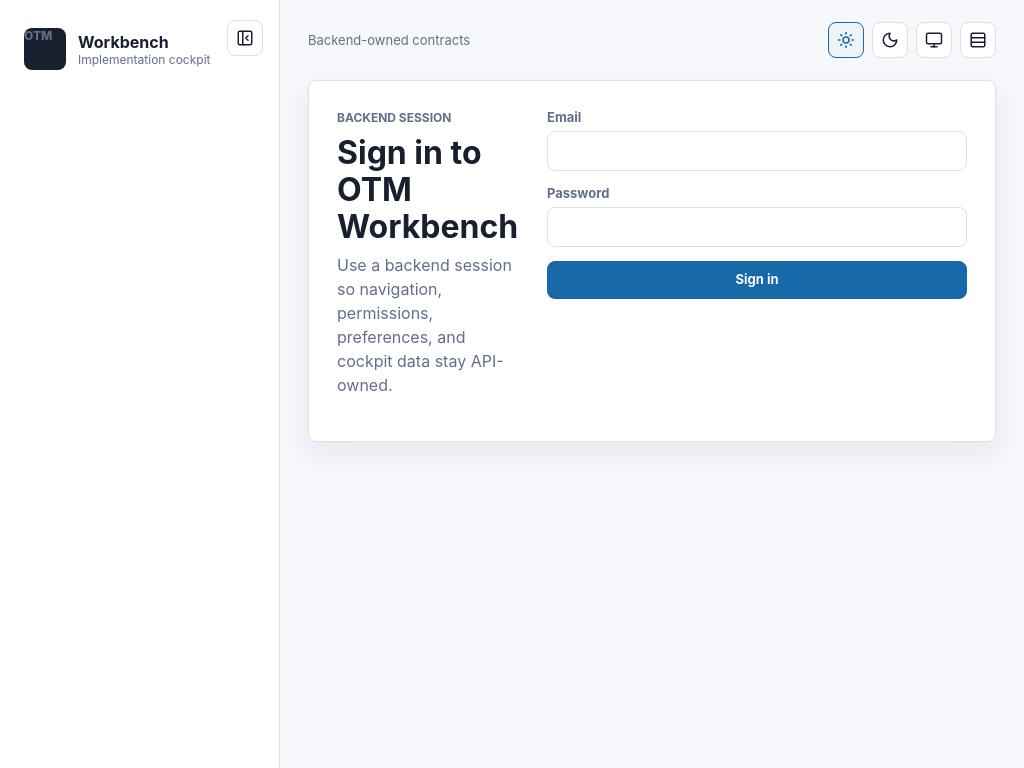
Test: App shell › keeps unknown backend routes behind the module unavailable state
Type "synthetic.user@example.test" into the field labelled "Email" at {"x": 757, "y": 151}, box [547,131,967,171]
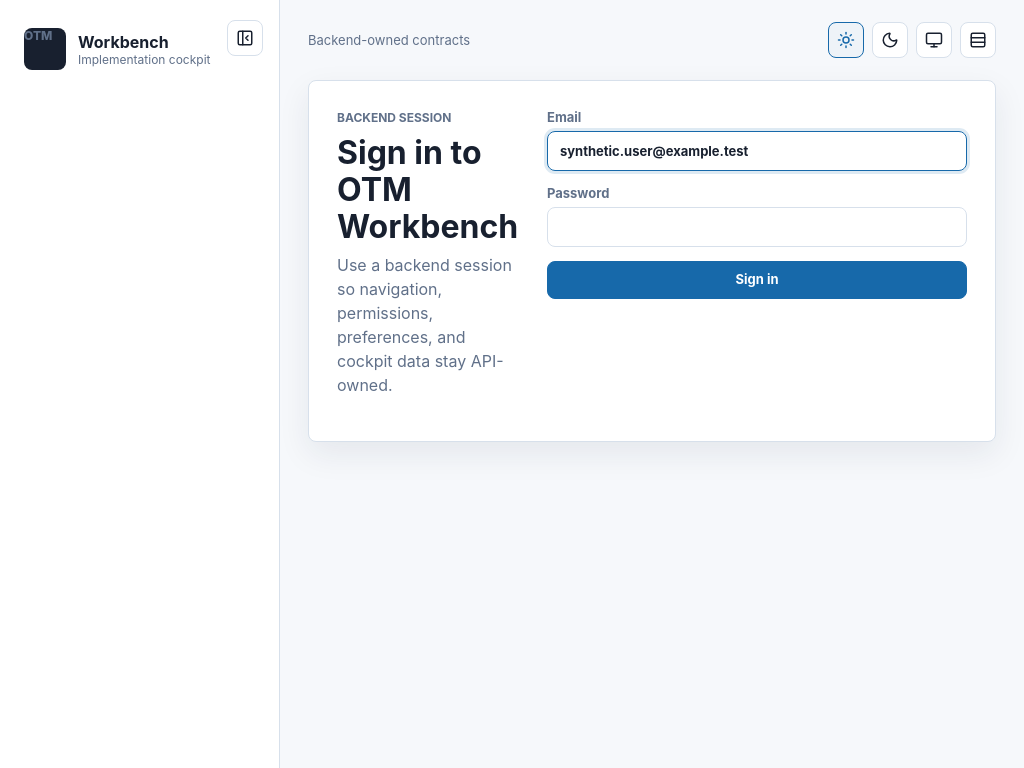
Type "synthetic-password" into the password field labelled "Password" at {"x": 757, "y": 227}, box [547,207,967,247]
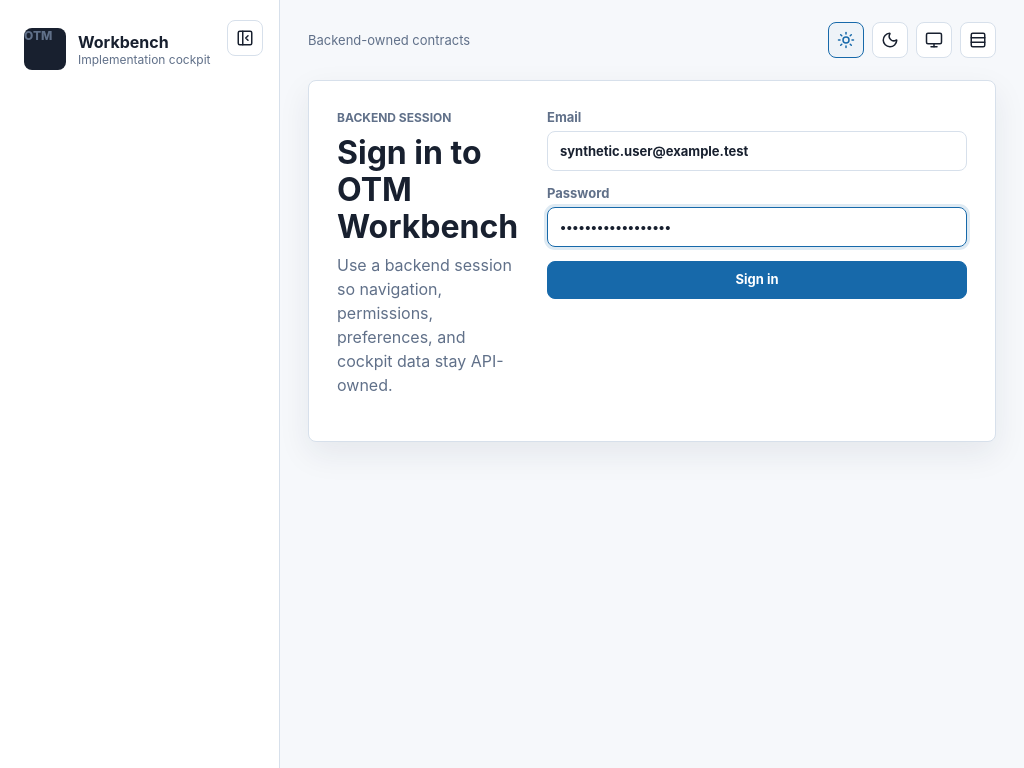
Click the button "Sign in" at {"x": 757, "y": 280}, box [547,261,967,299]
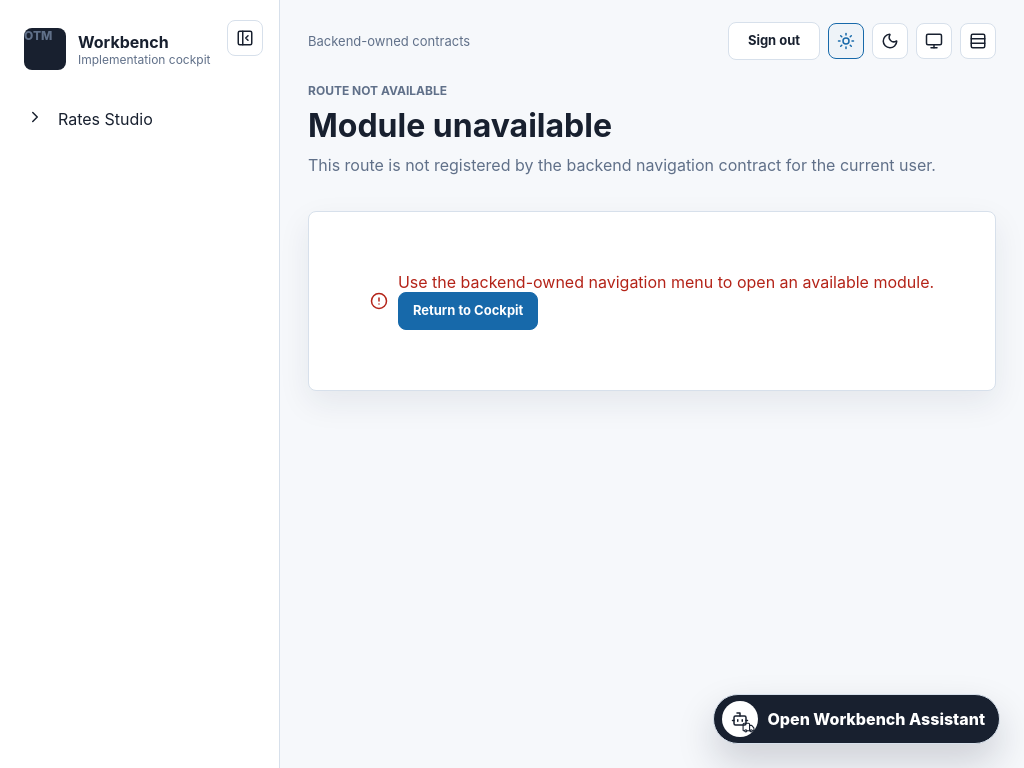
expect the heading "Module unavailable" is shown: met, box [308,106,612,145]
expect the text "Use the backend-owned navigation menu to open an available module." is shown: met, box [398,272,934,292]
